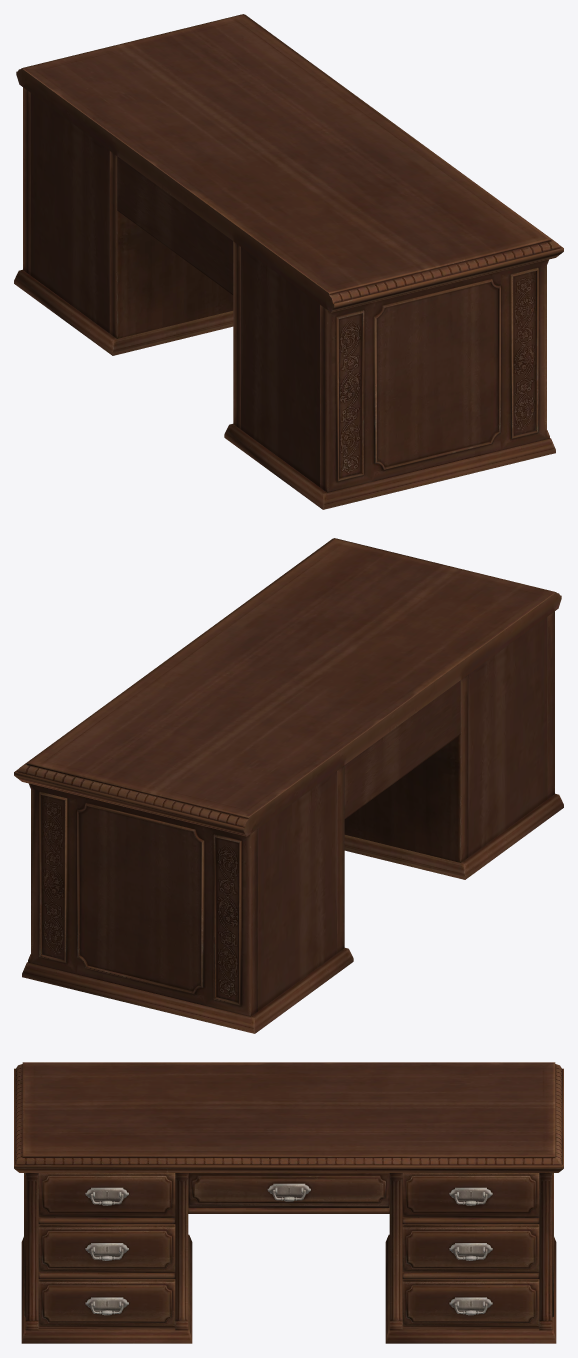
File: woodendesk.glb
The picture shows the model from 3 angles, top to bottom: view 1: azimuth 30°, elevation 25°; view 2: azimuth 150°, elevation 25°; view 3: azimuth 270°, elevation 25°; orthographic projection. The views are drawn at different scales.
Visible parts, largest first — view 1: plane_lp.001_Material.004_0; view 2: plane_lp.001_Material.004_0; view 3: plane_lp.001_Material.004_0.
Boxes of the visible parts, x1,y1,x2,y2 form: plane_lp.001_Material.004_0: [14, 14, 563, 509]; plane_lp.001_Material.004_0: [14, 538, 563, 1033]; plane_lp.001_Material.004_0: [14, 1062, 563, 1343].
Bounding box in the file's own units: 0.92 × 0.7966 × 2.14.
Materials: 1 (1 with a texture image).
